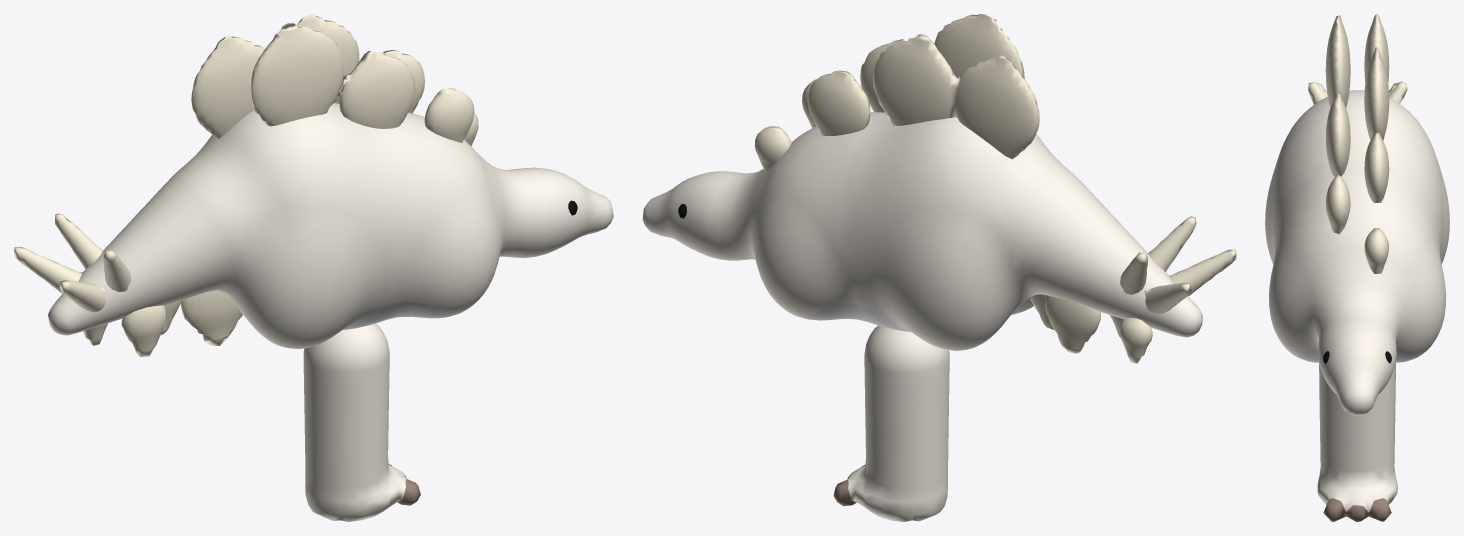
File: stegosaurus_adult.glb
The picture shows the model from 3 angles, left to right: view 1: azimuth 30°, elevation 25°; view 2: azimuth 150°, elevation 25°; view 3: azimuth 270°, elevation 25°; orthographic projection. The views are drawn at different scales.
Parts seen in each view (by area): view 1: body, horn, leg; view 2: body, horn, leg; view 3: body, horn, leg.
Boxes of the visible parts, x1,y1,x2,y2 form: body: (48, 103, 613, 348); horn: (14, 14, 478, 356); leg: (303, 323, 420, 521); body: (642, 112, 1202, 350); horn: (754, 14, 1236, 363); leg: (833, 325, 949, 521); body: (1265, 90, 1449, 415); horn: (1308, 14, 1407, 273); leg: (1317, 363, 1397, 521).
Size of the model in its own units: 3.98 by 3.37 by 1.24.
